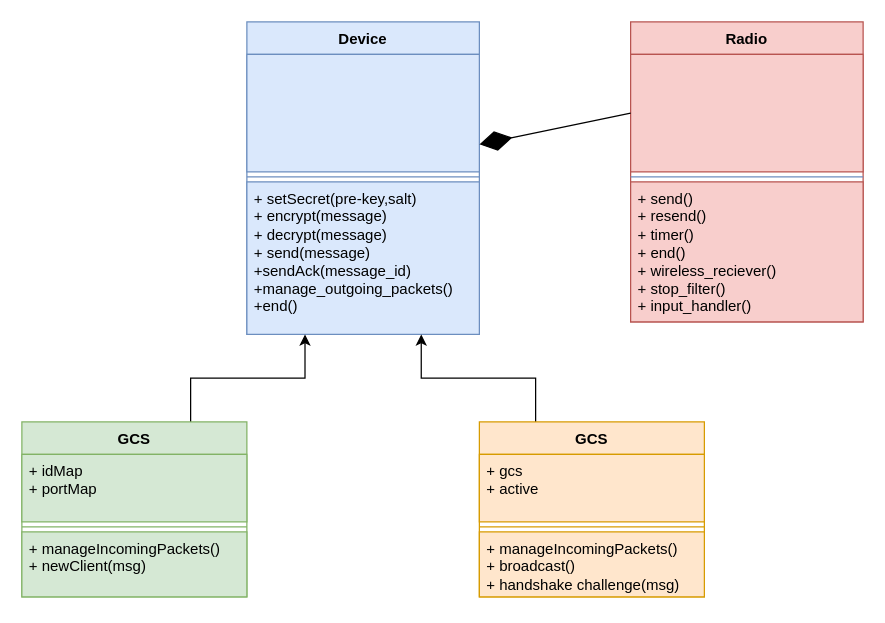
This 885x623 diagram has some shape labels left out. The shapes that lost their labels are listed below. From the top down, each one's centre as x and y in pixels, then its label:
(362,112): + ID + sendQueue + recieveQueue + encryptionKeys + radioInterface
(746,112): + interface + timers + messageID
